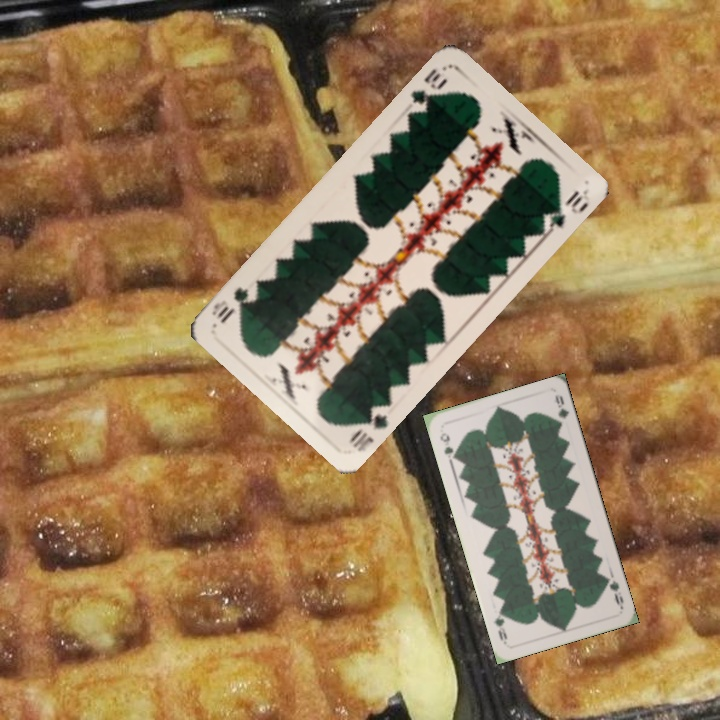G10: (344, 400, 390, 455), (406, 64, 451, 109)
G9: (600, 573, 626, 611), (436, 429, 460, 463)
